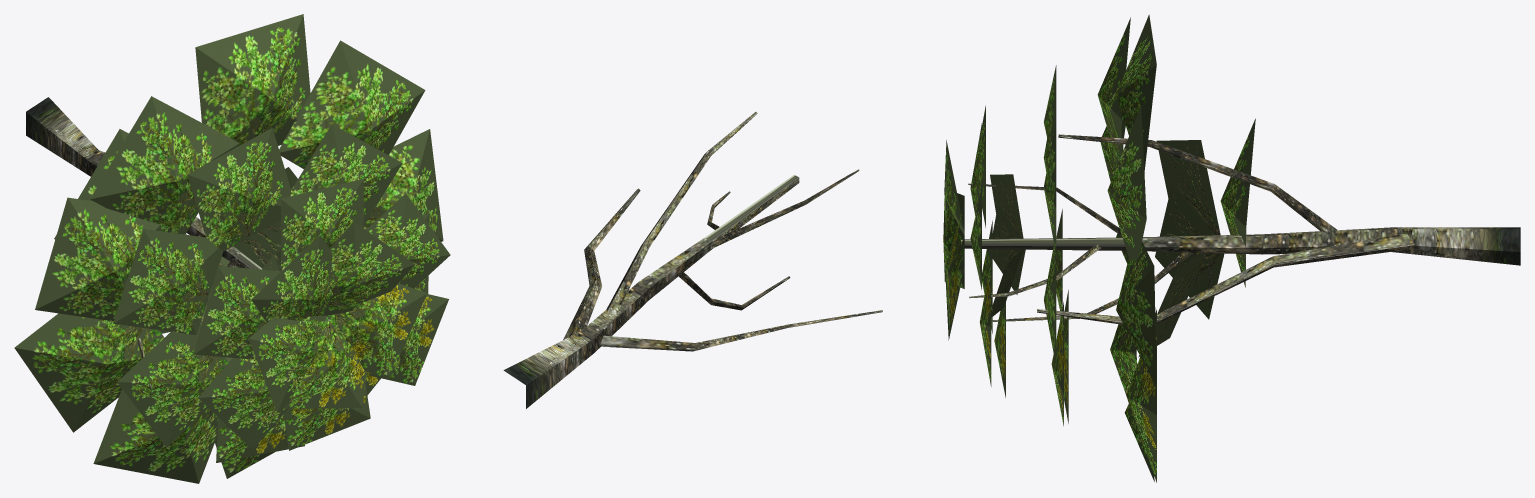
The model's file is dx_shu_5235-geode.glb.
3 views of the same model, side by side, from view 1: azimuth 30°, elevation 25°; view 2: azimuth 150°, elevation 25°; view 3: azimuth 270°, elevation 25° (orthographic). The views are drawn at different scales.
Parts seen in each view (by area): view 1: Node; view 2: Node; view 3: Node.
Part boxes in pixels (x1,y1,x2,y2): Node: [14, 14, 450, 483]; Node: [503, 112, 882, 408]; Node: [943, 14, 1520, 482].
Bounding box in the file's own units: 6.1 × 6.06 × 7.21.
Materials: 1 (1 with a texture image).
